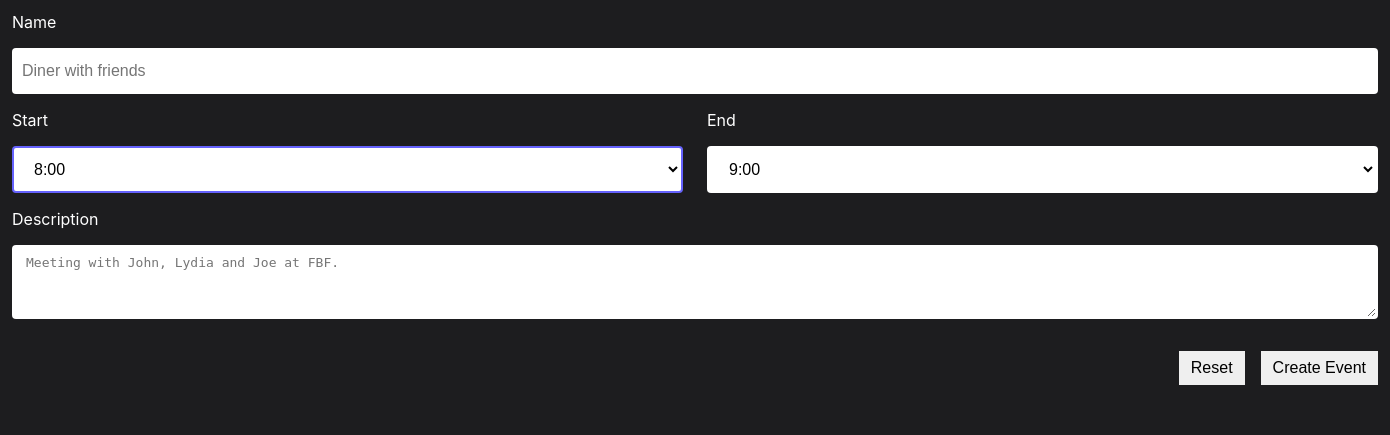
Scenario: Event Creation Form › Validation: Start date must be later than end date
Step 1. Select "8:00" in the dropdown showing "8:00" below "Start" → (348, 170), box x1=12 y1=146 x2=683 y2=193
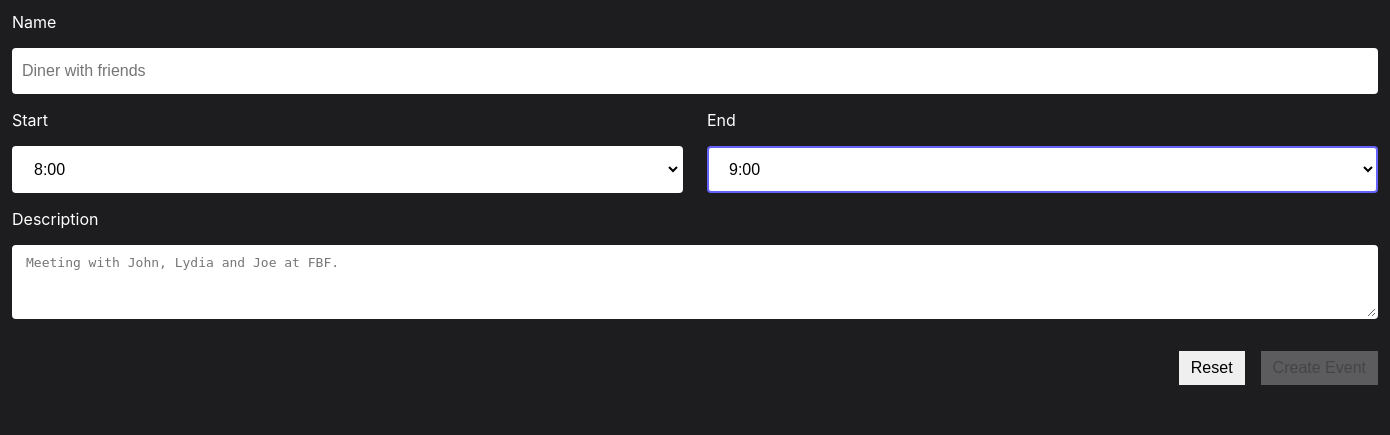
Step 2. Select "7:00" in the dropdown showing "9:00" below "End" → (1042, 170), box x1=707 y1=146 x2=1378 y2=193
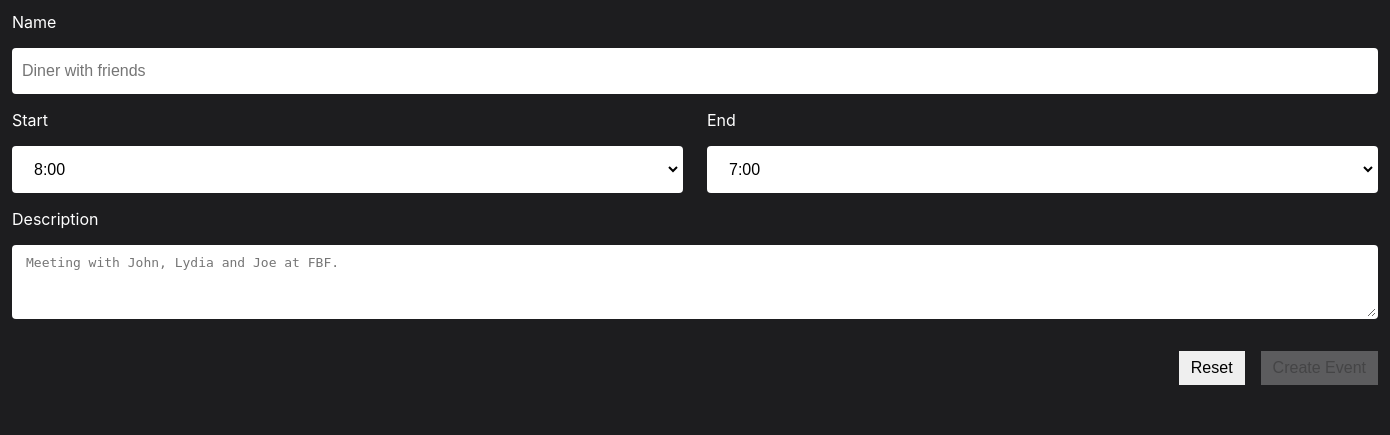
Step 3. Click the button "Create Event" → (1319, 368), box x1=1261 y1=351 x2=1378 y2=385
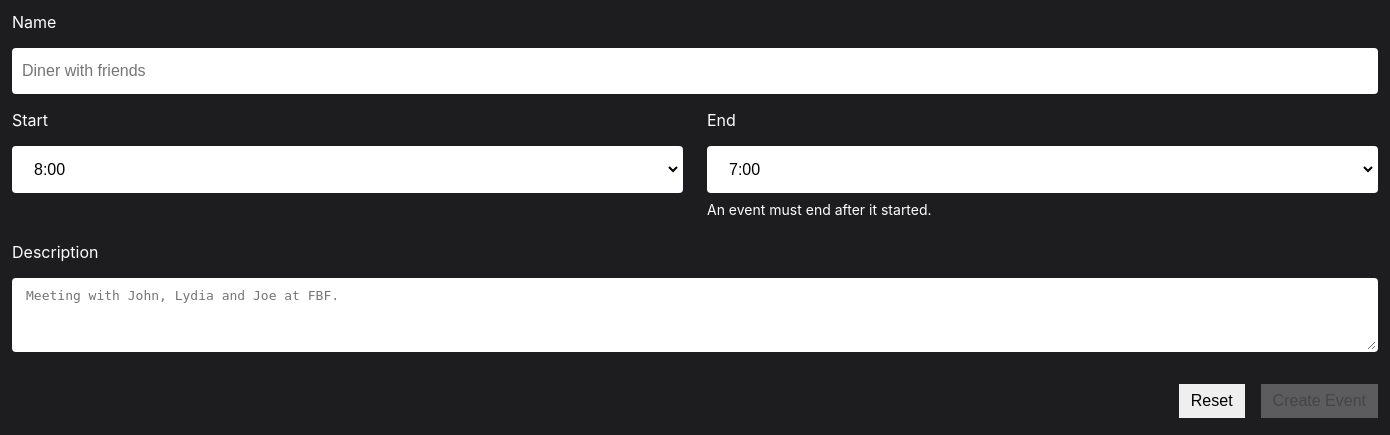
expect the text "An event must end after it started." is shown: met, box x1=707 y1=201 x2=932 y2=218
